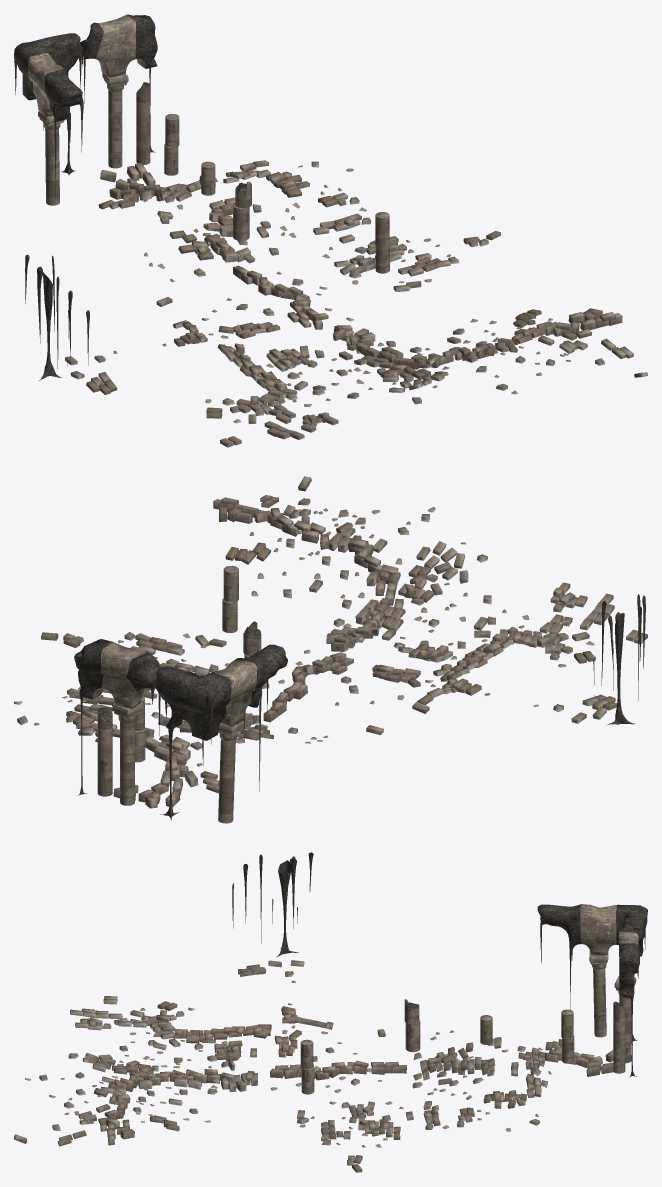
The picture shows the model from 3 angles, top to bottom: view 1: azimuth 30°, elevation 25°; view 2: azimuth 150°, elevation 25°; view 3: azimuth 270°, elevation 25°; orthographic projection. The views are drawn at different scales.
Visible parts, largest first — view 1: Material_#33, Material_#29, Material_#32, Material_#28; view 2: Material_#33, Material_#29, Material_#32, Material_#28; view 3: Material_#33, Material_#32, Material_#29, Material_#28.
Boxes of the visible parts, box(x1,y1,x2,y2) form: Material_#33: box(65, 160, 647, 447); Material_#29: box(15, 14, 157, 130); Material_#32: box(45, 86, 389, 273); Material_#28: box(14, 20, 251, 380); Material_#33: box(14, 476, 647, 808); Material_#29: box(78, 639, 287, 746); Material_#32: box(97, 565, 262, 823); Material_#28: box(74, 594, 645, 820); Material_#33: box(14, 960, 613, 1172); Material_#32: box(300, 968, 631, 1094); Material_#29: box(537, 904, 647, 998); Material_#28: box(232, 852, 647, 1077).
Bounding box in the file's own units: 68.24 × 21.04 × 84.34.
